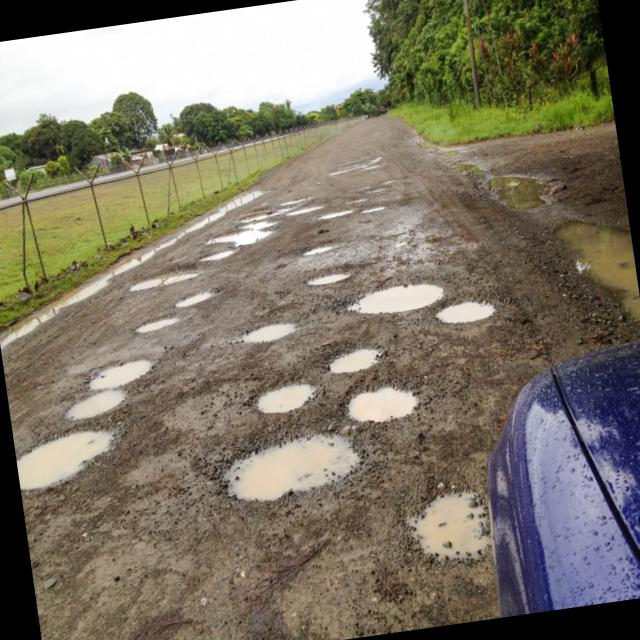Potholes: (217, 422, 367, 524), (552, 205, 640, 346), (399, 478, 507, 578), (474, 148, 574, 238), (54, 351, 172, 425), (344, 261, 458, 330), (13, 426, 122, 496), (193, 201, 293, 265), (342, 376, 432, 444), (243, 372, 329, 428), (115, 258, 209, 306), (288, 189, 390, 233), (436, 296, 500, 340), (229, 317, 302, 348), (328, 344, 384, 379), (303, 258, 352, 294), (165, 283, 220, 315), (132, 313, 194, 339), (300, 232, 342, 260)
